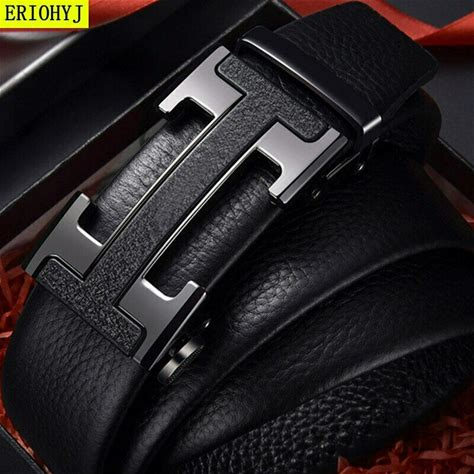cuero: (7, 1, 474, 474)
